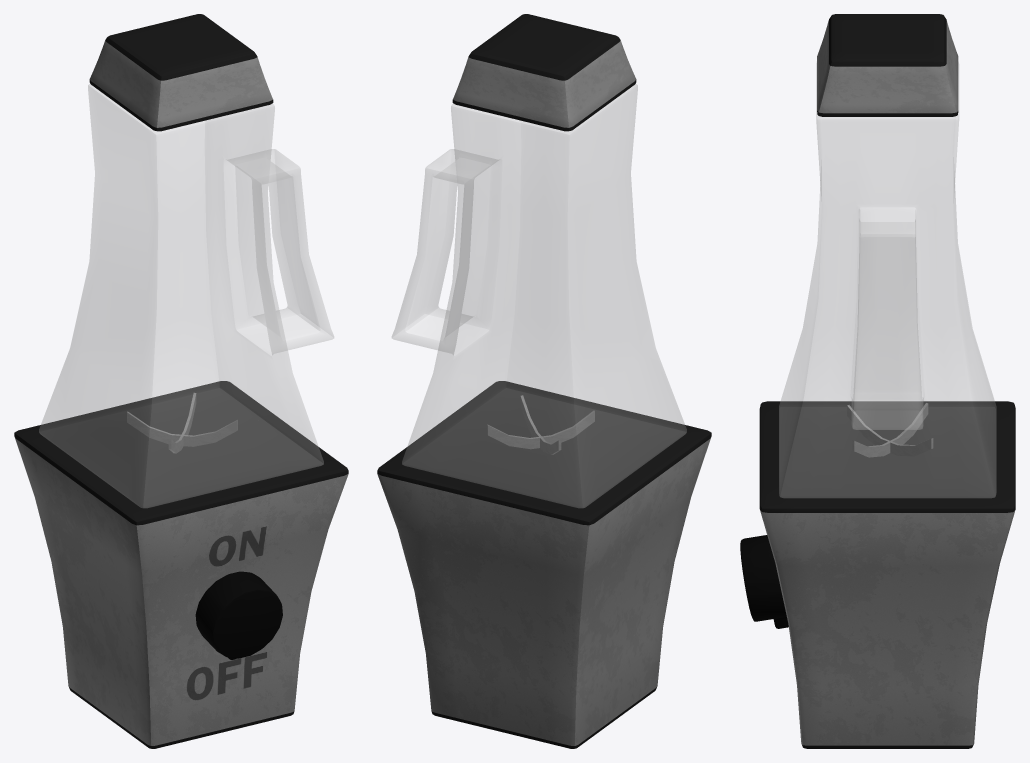
The model's file is Blender.fbx.
The picture shows the model from 3 angles, left to right: view 1: azimuth 30°, elevation 25°; view 2: azimuth 150°, elevation 25°; view 3: azimuth 270°, elevation 25°; orthographic projection. The views are drawn at different scales.
Visible parts, largest first — view 1: blender, blender base, blender top, switch, blender blade; view 2: blender, blender base, blender top, blender blade; view 3: blender base, blender, blender top, switch, blender blade.
Part boxes in pixels (x1=…): blender: x1=39, y1=84, x2=333, y2=507; blender base: x1=14, y1=381, x2=348, y2=748; blender top: x1=89, y1=14, x2=273, y2=131; switch: x1=195, y1=571, x2=282, y2=659; blender blade: x1=127, y1=392, x2=237, y2=453; blender: x1=392, y1=84, x2=686, y2=507; blender base: x1=377, y1=381, x2=711, y2=748; blender top: x1=452, y1=14, x2=636, y2=131; blender blade: x1=487, y1=395, x2=594, y2=454; blender base: x1=759, y1=401, x2=1015, y2=748; blender: x1=779, y1=62, x2=996, y2=497; blender top: x1=817, y1=14, x2=958, y2=116; switch: x1=740, y1=535, x2=788, y2=628; blender blade: x1=847, y1=403, x2=933, y2=457.
Bounding box in the file's own units: 25.22 × 65 × 23.93.
